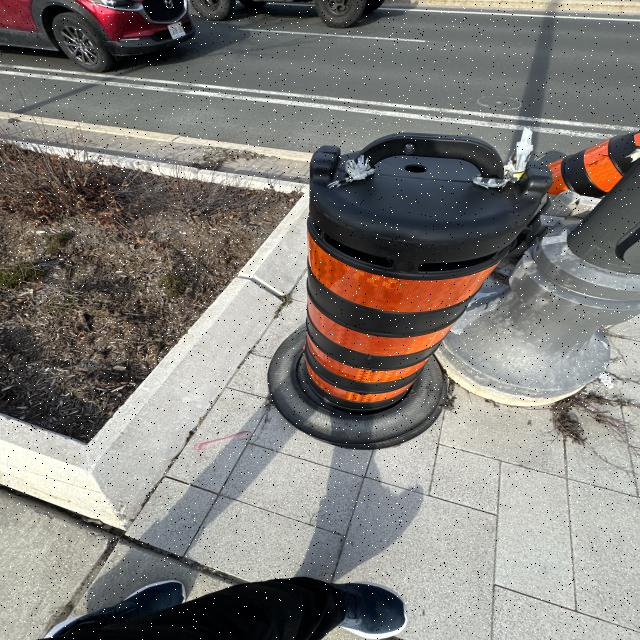Teraffic Barrel: (268, 134, 552, 448), (437, 162, 640, 406), (548, 131, 640, 197)
